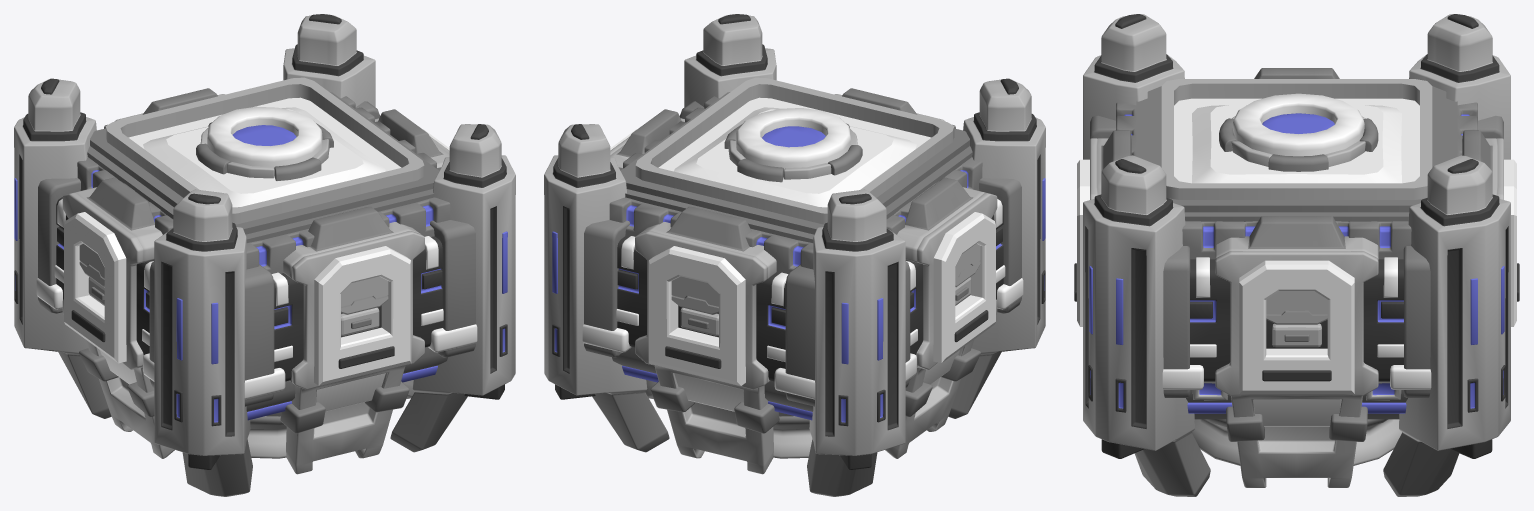
Rendered from Core.fbx.
The picture shows the model from 3 angles, left to right: view 1: azimuth 30°, elevation 25°; view 2: azimuth 150°, elevation 25°; view 3: azimuth 270°, elevation 25°; orthographic projection. The views are drawn at different scales.
Visible parts, largest first — view 1: Core; view 2: Core; view 3: Core.
Part boxes in pixels (x1,y1,x2,y2): Core: (14, 14, 515, 496); Core: (544, 14, 1045, 496); Core: (1074, 14, 1519, 496).
Bounding box in the file's own units: 1.7 × 1.47 × 1.7.
